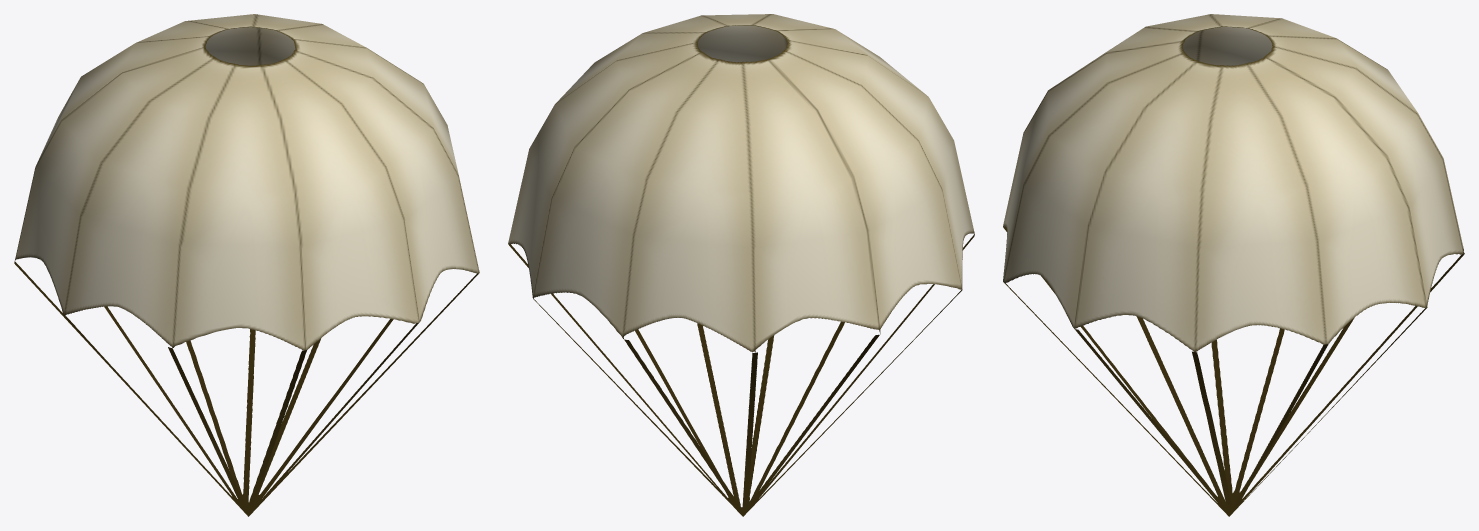
Rendered from Parachute.FBX.
3 renders of one model, left to right at view 1: azimuth 30°, elevation 25°; view 2: azimuth 150°, elevation 25°; view 3: azimuth 270°, elevation 25°, orthographic.
Visible parts, largest first — view 1: Parachute; view 2: Parachute; view 3: Parachute.
Boxes of the visible parts, x1,y1,x2,y2 form: Parachute: (14, 14, 479, 516); Parachute: (508, 14, 974, 516); Parachute: (1003, 14, 1464, 516).
Bounding box in the file's own units: 97.19 × 111 × 96.2.
